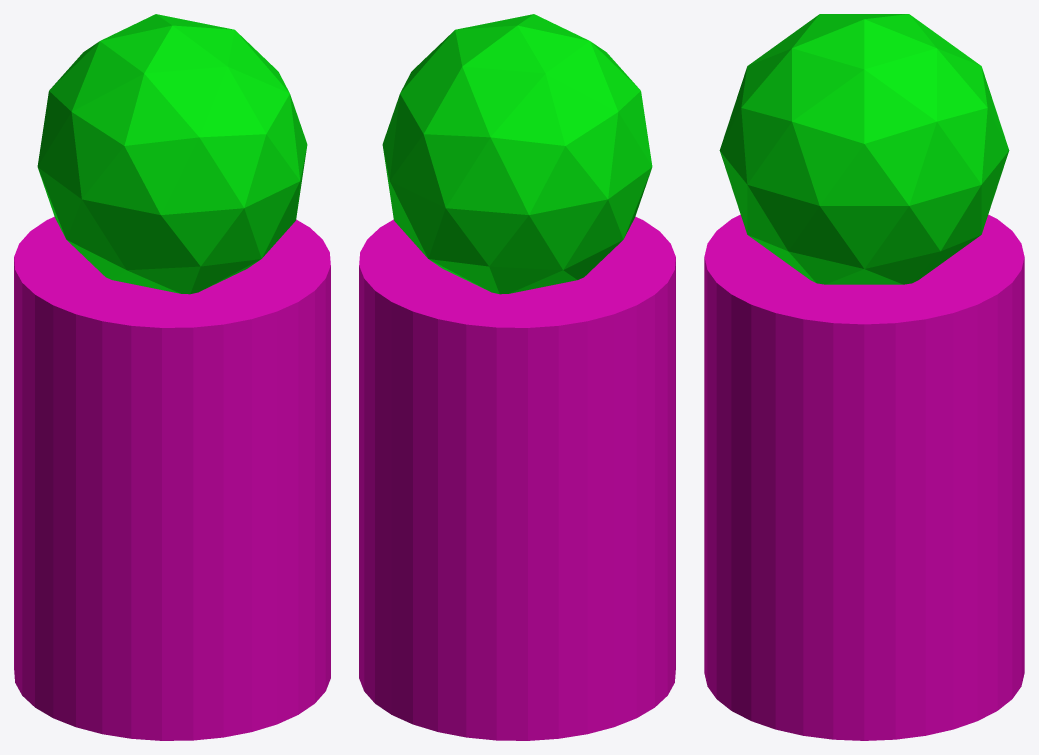
File: TestObjectglb.glb
3 views of the same model, side by side, from view 1: azimuth 30°, elevation 25°; view 2: azimuth 150°, elevation 25°; view 3: azimuth 270°, elevation 25° (orthographic).
Parts seen in each view (by area): view 1: Cylinder, Icosphere; view 2: Cylinder, Icosphere; view 3: Cylinder, Icosphere.
Boxes of the visible parts, x1=… form: Cylinder: x1=14, y1=216, x2=330, y2=740; Icosphere: x1=37, y1=14, x2=307, y2=294; Cylinder: x1=359, y1=216, x2=675, y2=740; Icosphere: x1=382, y1=14, x2=652, y2=294; Cylinder: x1=704, y1=214, x2=1024, y2=740; Icosphere: x1=719, y1=14, x2=1009, y2=284.
Size of the model in its own units: 3.89 by 8.78 by 3.89.
